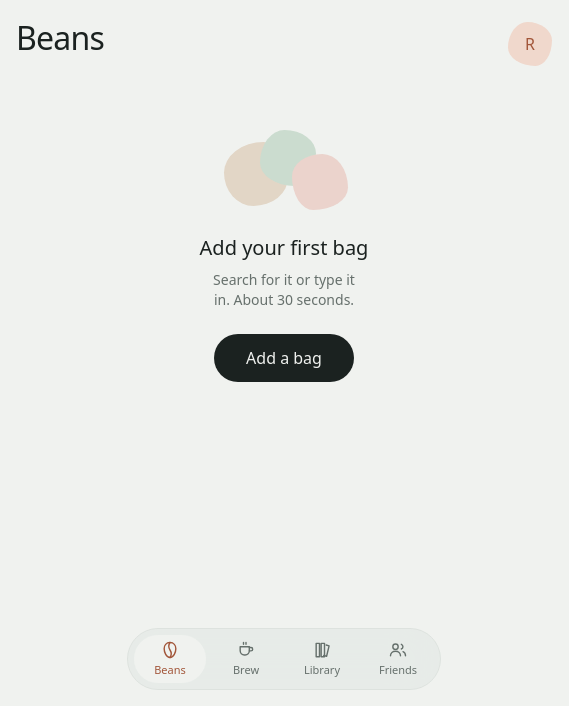
app shell › navigates between tabs
Click the link "Library" at (322, 658), box [304, 640, 340, 677]
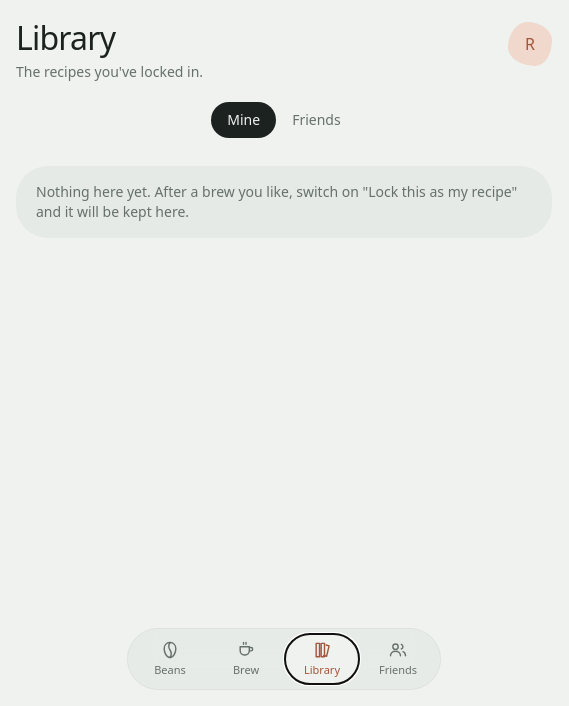
expect the heading "Library" is shown: met, box [16, 16, 115, 59]
